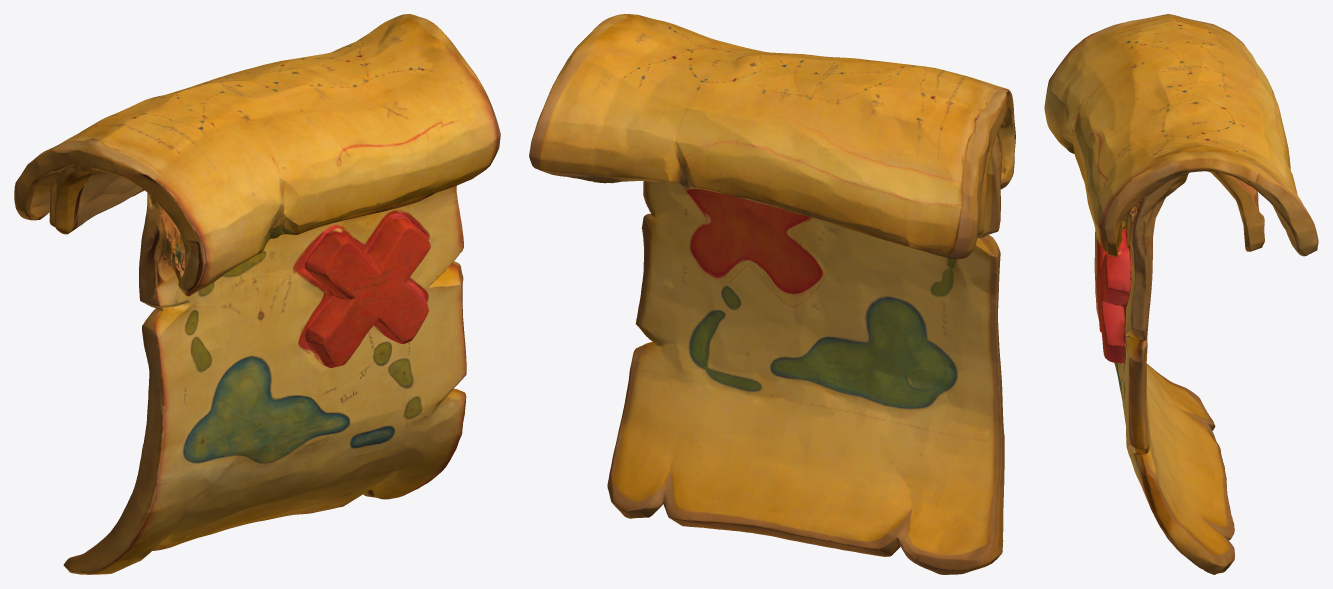
The model's file is map.glb.
The picture shows the model from 3 angles, left to right: view 1: azimuth 30°, elevation 25°; view 2: azimuth 150°, elevation 25°; view 3: azimuth 270°, elevation 25°; orthographic projection. The views are drawn at different scales.
Bounding box in the file's own units: 1.8 × 2 × 1.15.
Materials: 1 (1 with a texture image).
